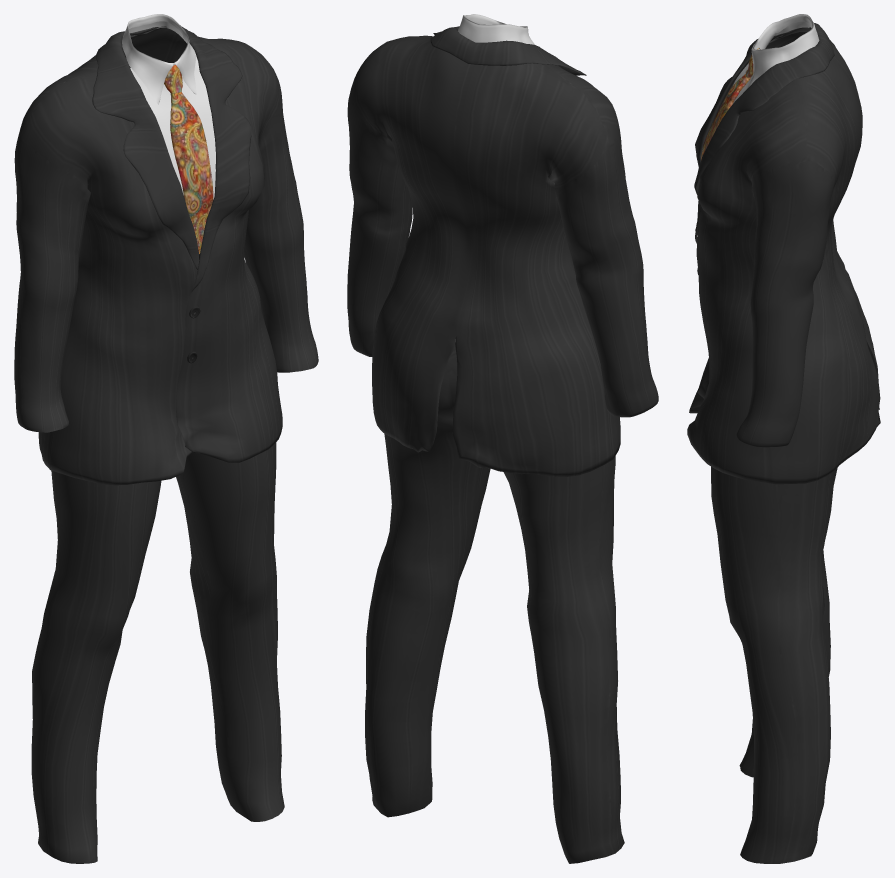
The model's file is toigo-male-suit-tie-and-jacket.glb.
3 views of the same model, side by side, from view 1: azimuth 30°, elevation 25°; view 2: azimuth 150°, elevation 25°; view 3: azimuth 270°, elevation 25° (orthographic). The views are drawn at different scales.
Parts seen in each view (by area): view 1: Human.toigo_male_suit_tie_and_jacket; view 2: Human.toigo_male_suit_tie_and_jacket; view 3: Human.toigo_male_suit_tie_and_jacket.
Part boxes in pixels (x1,y1,x2,y2): Human.toigo_male_suit_tie_and_jacket: [14, 14, 318, 863]; Human.toigo_male_suit_tie_and_jacket: [347, 14, 658, 863]; Human.toigo_male_suit_tie_and_jacket: [687, 14, 880, 863].
Bounding box in the file's own units: 0.5353 × 1.4 × 0.3106.
Materials: 1 (1 with a texture image).
